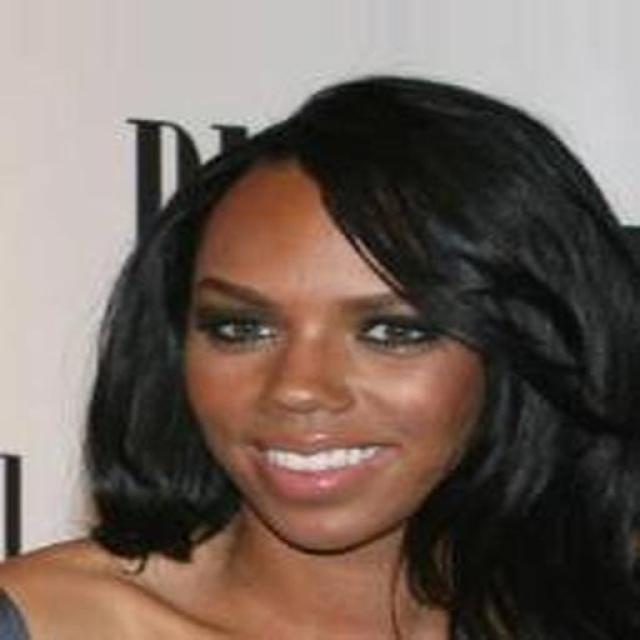bareface: (180, 80, 586, 541)
